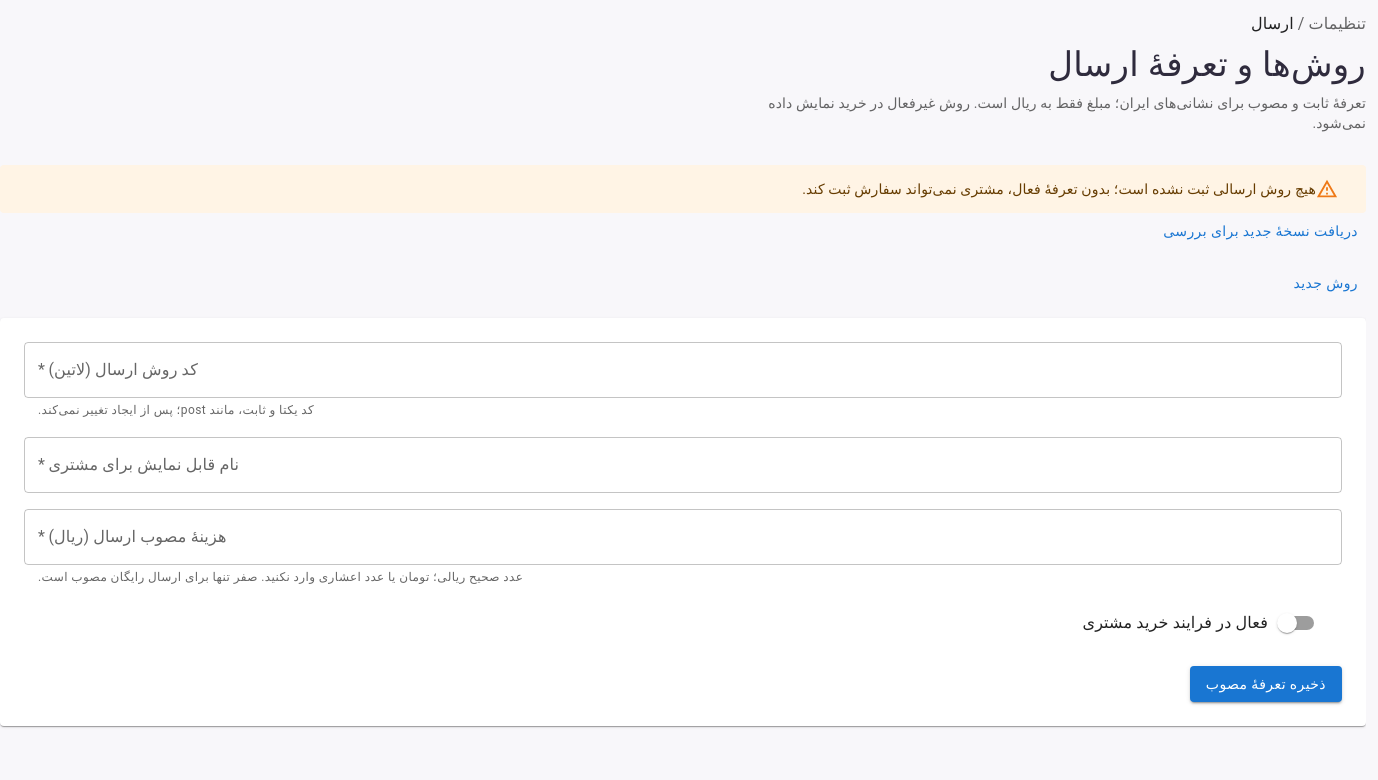
Test case: Admin approved shipping tariffs › stores only explicit integer IRR values and defaults new methods to inactive
The width and height of the screenshot is (1378, 780).
Expected: the text "هیچ روش ارسالی ثبت نشده است" is shown, [802,181,1316,197]
Step 1. Type "post" into the field labelled "کد روش ارسال (لاتین) *" → (683, 370), box [24,342,1342,398]
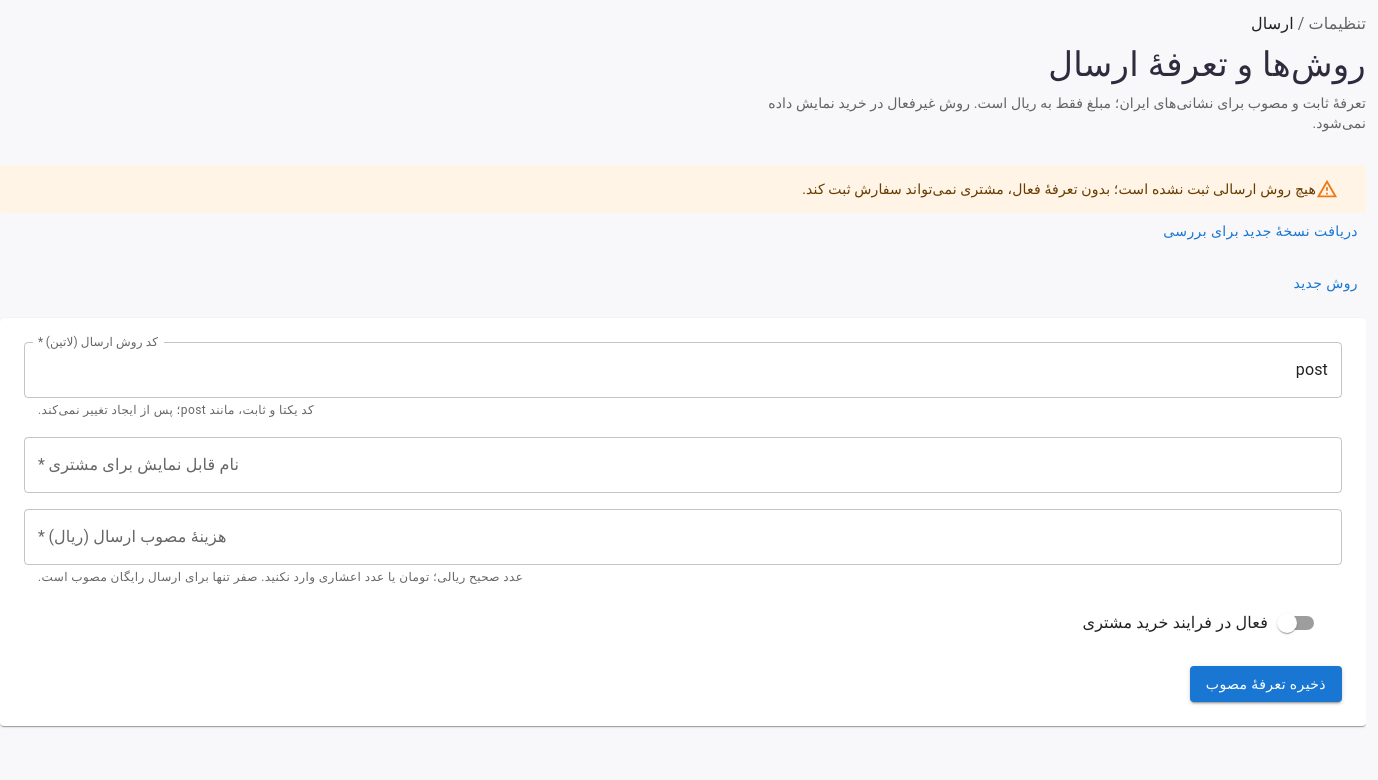
Step 2. Type "پست" into the field labelled "نام قابل نمایش برای مشتری *" → (683, 465), box [24,437,1342,493]
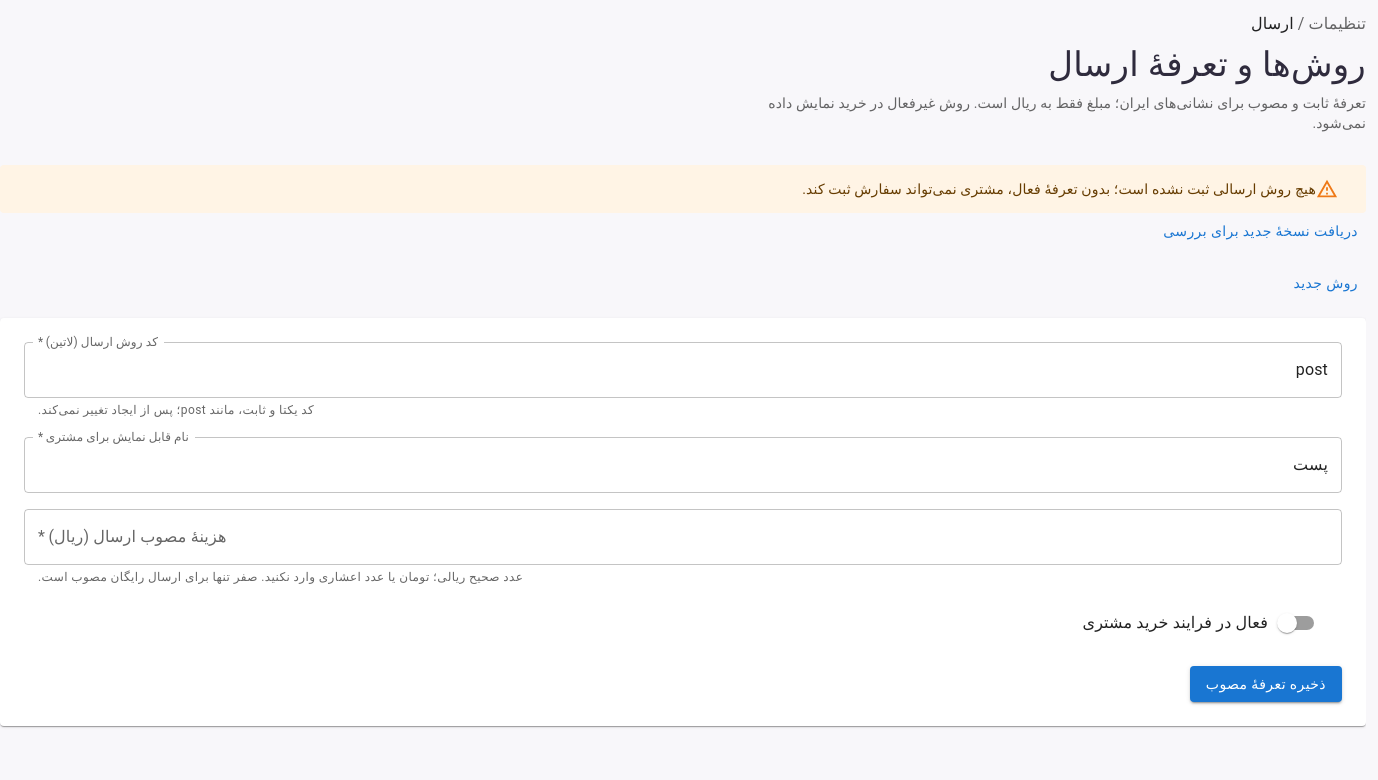
Step 3. Type "۵۰۰۰۰" into the field labelled "هزینهٔ مصوب ارسال (ریال) *" → (683, 537), box [24,509,1342,565]
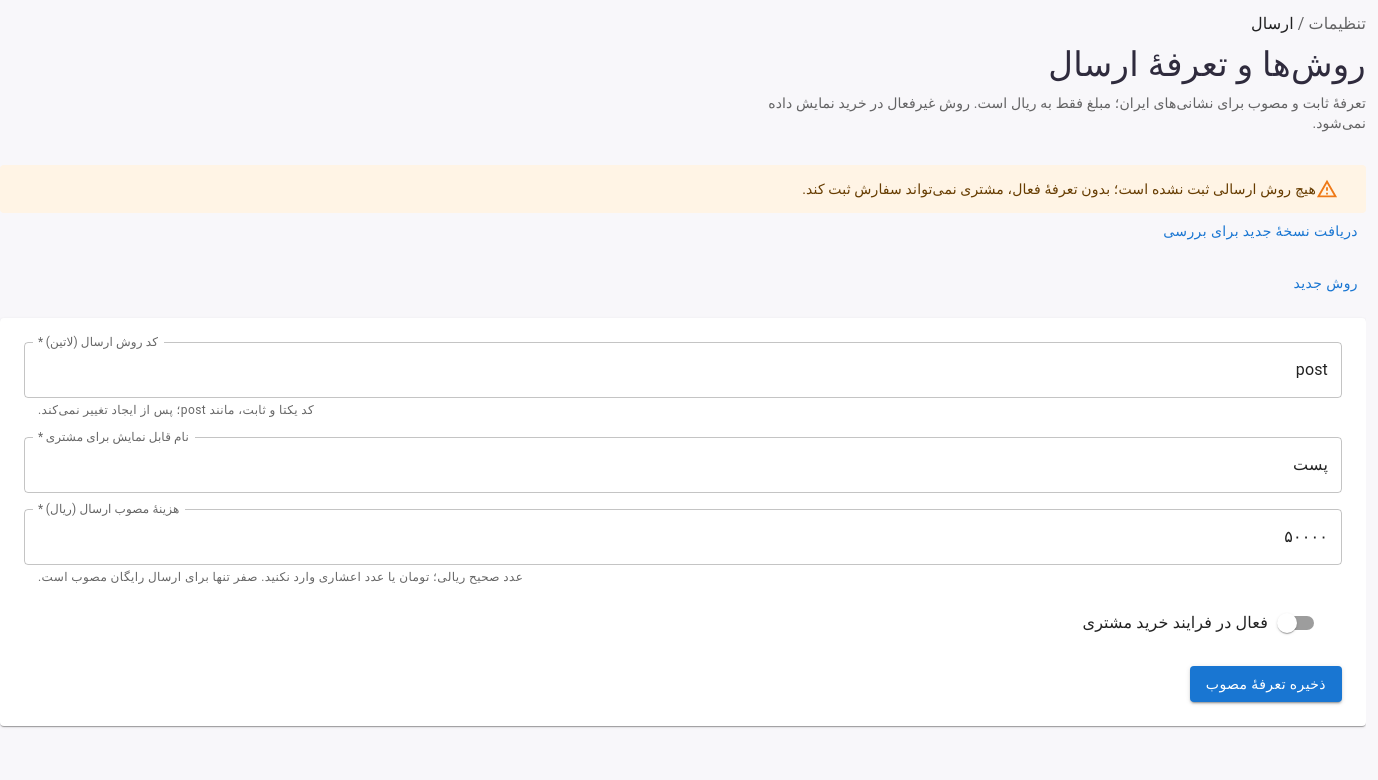
Step 4. Click the button "ذخیره تعرفهٔ مصوب" → (1266, 684), box [1190,666,1342,702]
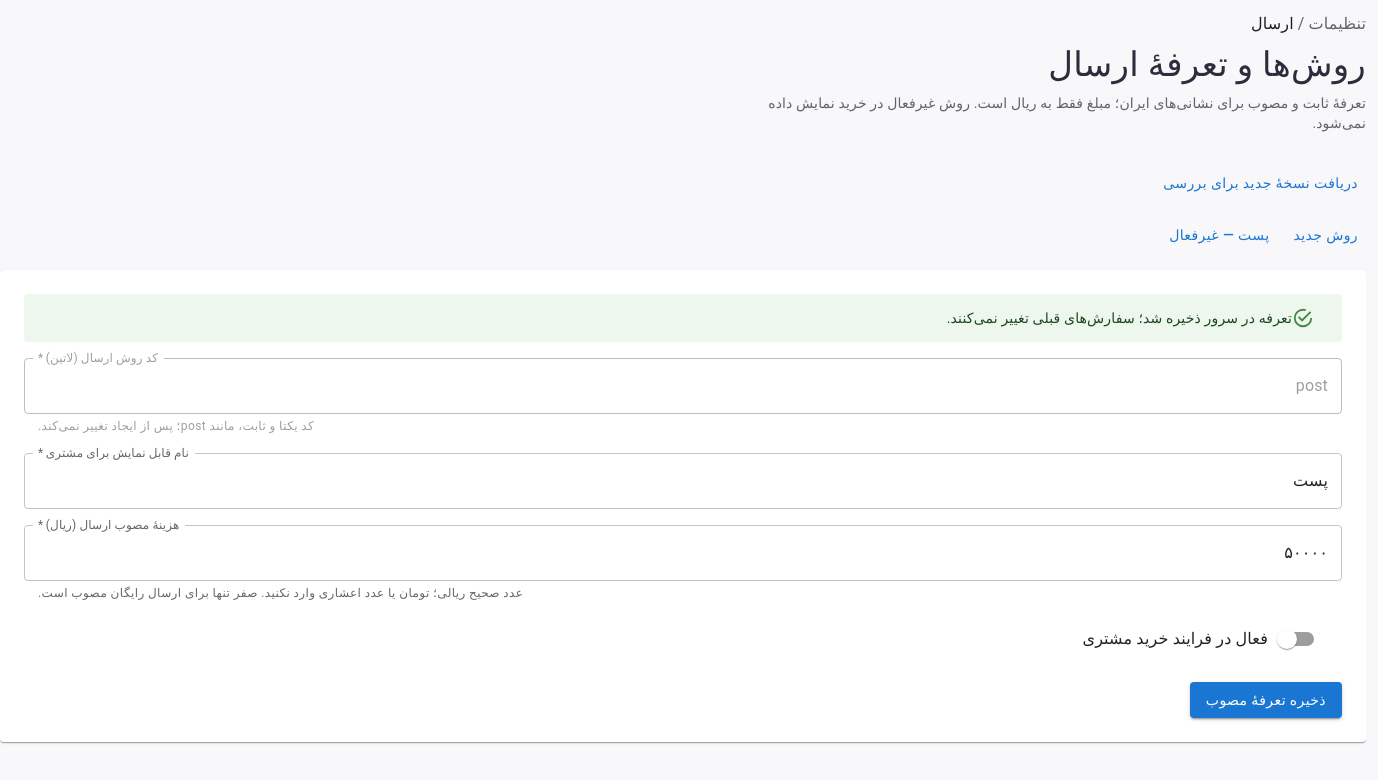
Expected: the text "تعرفه در سرور ذخیره شد؛ سفارش‌های قبلی تغییر نمی‌کنند." is shown, [947,310,1292,326]
